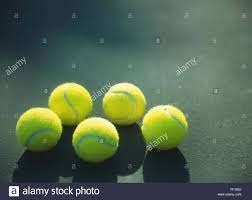tennis_ball: (71, 116, 119, 162), (140, 104, 188, 150), (14, 107, 63, 151), (47, 82, 92, 128), (102, 82, 145, 127)
